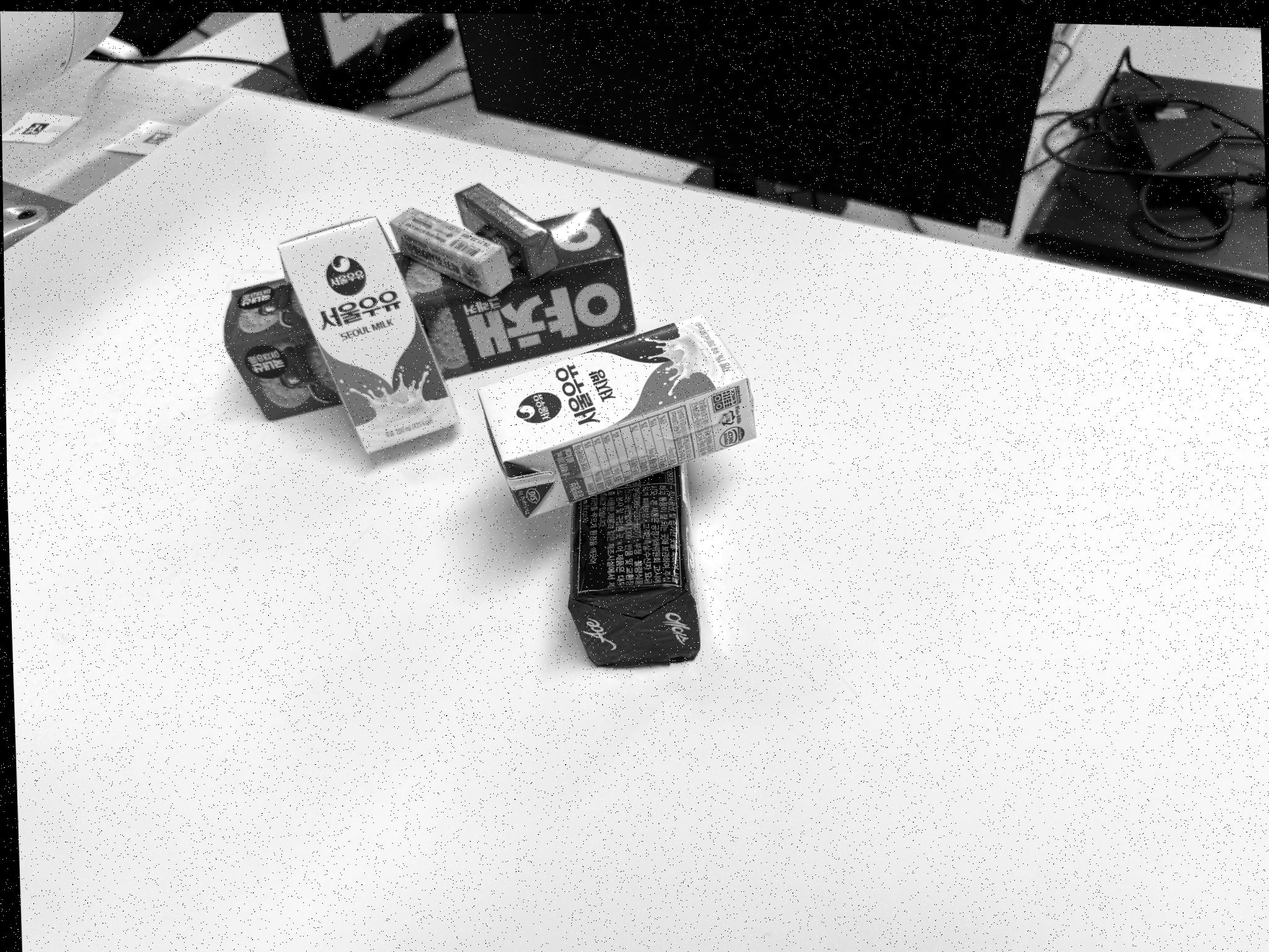cracker_ace: (568, 467, 701, 667)
cracker_vege: (389, 209, 636, 378), (228, 274, 344, 422)
gum_green: (456, 183, 558, 277)
gum_yellow: (391, 208, 512, 295)
milk_blue: (479, 315, 756, 517)
milk_green: (278, 218, 457, 452)
